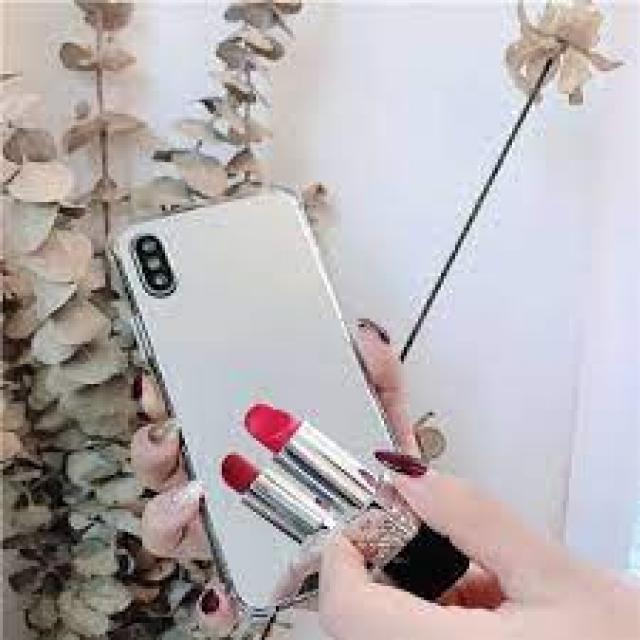Phone: (110, 187, 414, 620)
